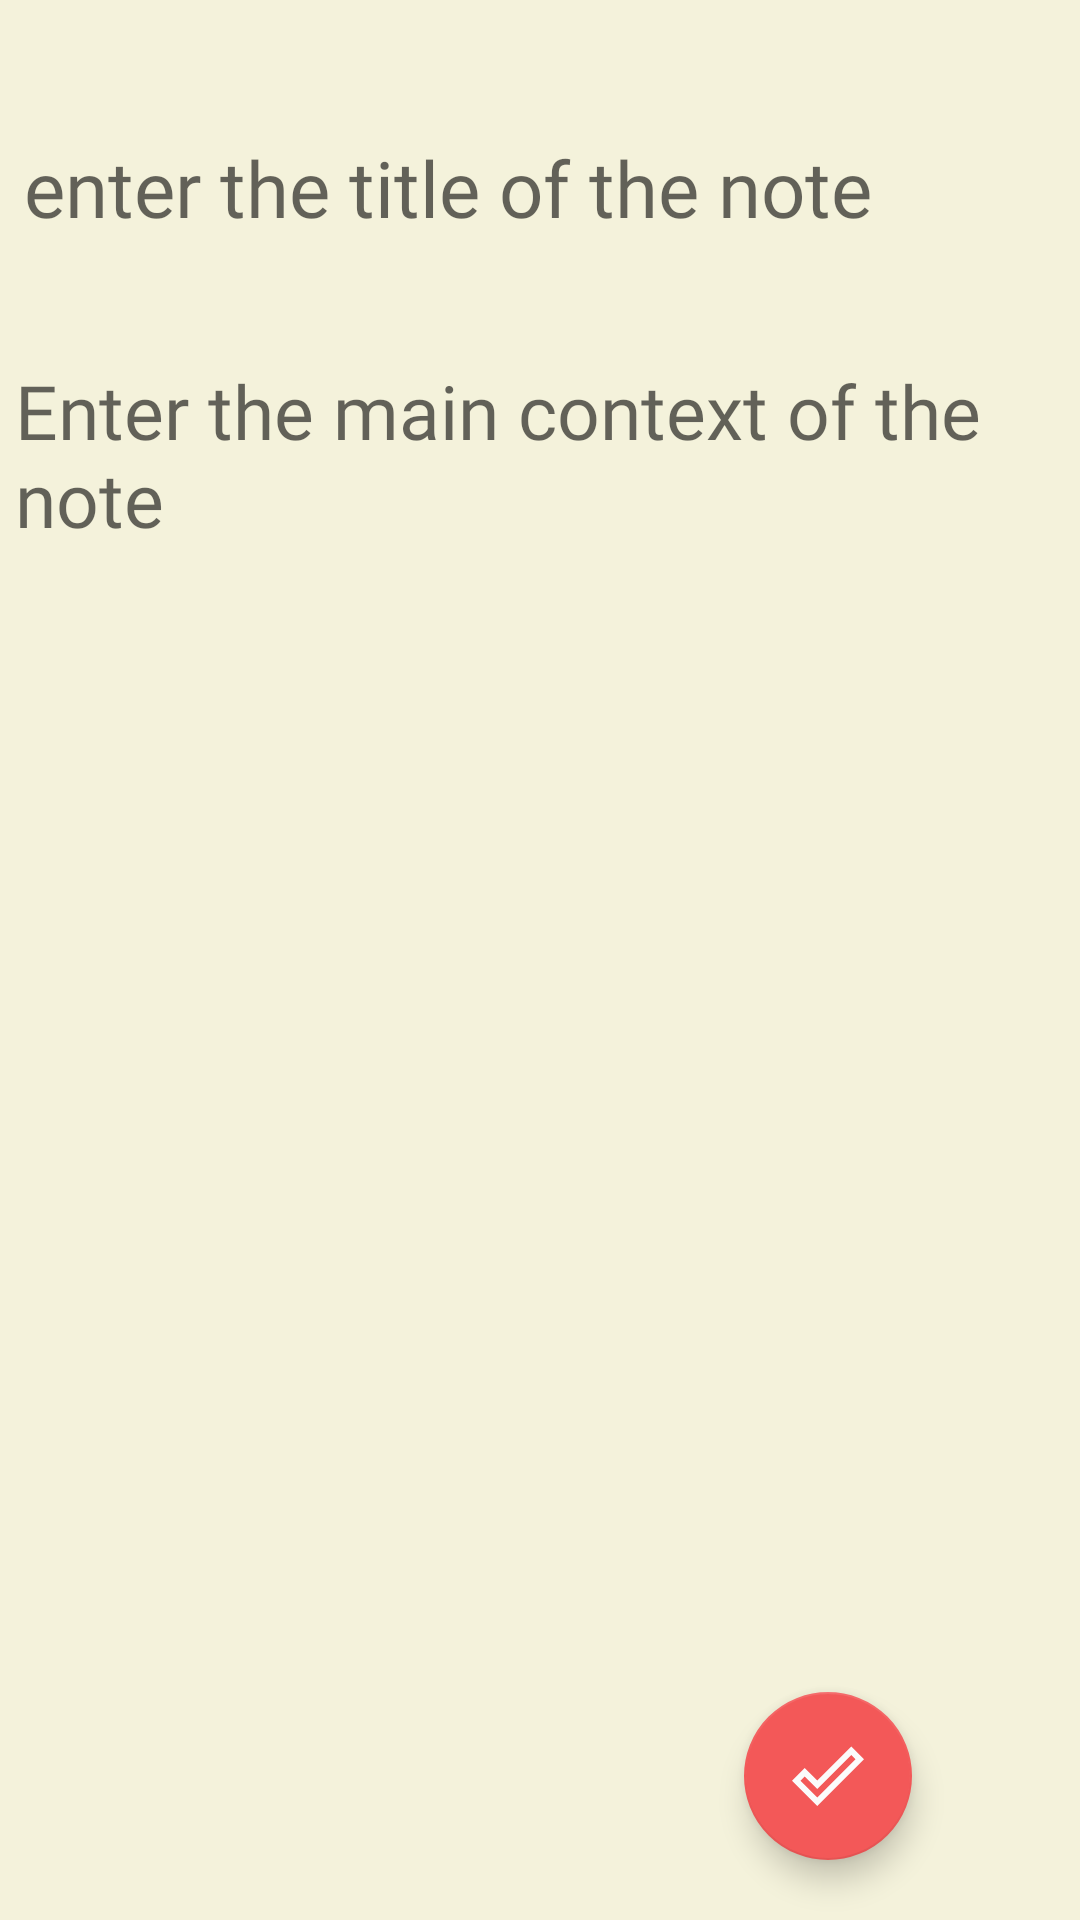

Point at icon controls on the screen. Image size 1080 × 1920, points as (x=x, y=y).
done: (x=828, y=1776)
